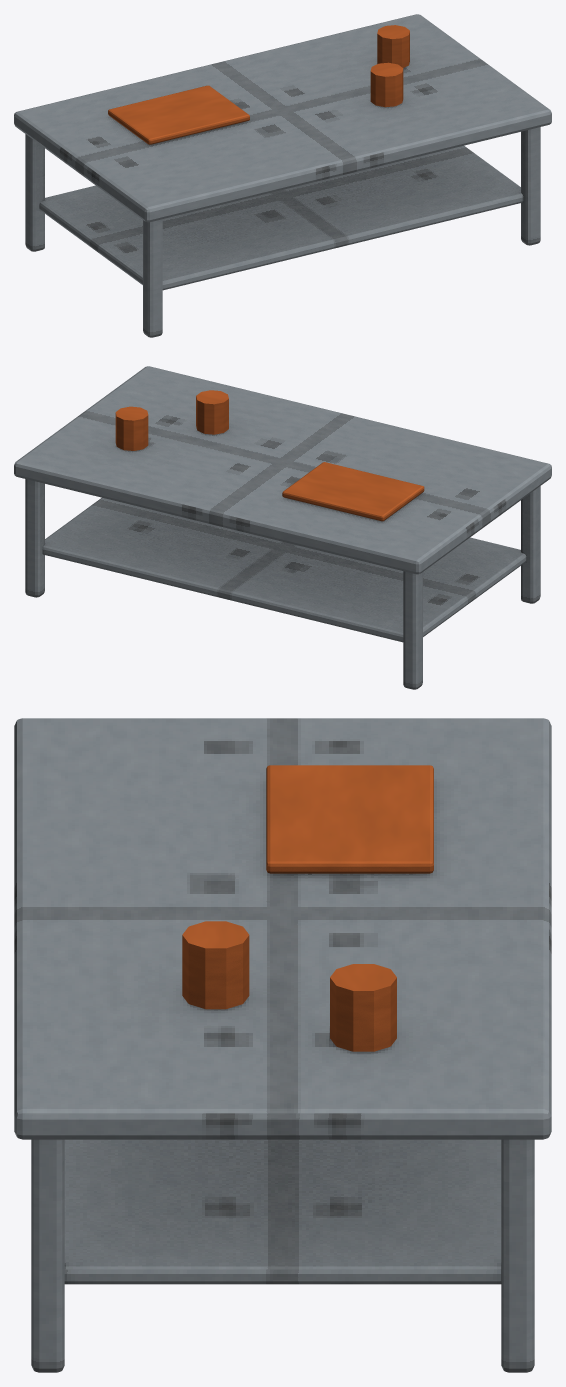
Rendered from base_coffee_table.glb.
3 views of the same model, one above another, from view 1: azimuth 30°, elevation 25°; view 2: azimuth 150°, elevation 25°; view 3: azimuth 270°, elevation 25° (orthographic). The views are drawn at different scales.
Visible parts, largest first — view 1: base_coffee_table; view 2: base_coffee_table; view 3: base_coffee_table.
Boxes of the visible parts, x1=… form: base_coffee_table: x1=14, y1=14, x2=551, y2=337; base_coffee_table: x1=14, y1=366, x2=551, y2=689; base_coffee_table: x1=14, y1=718, x2=551, y2=1372.
Size of the model in its own units: 1.4 by 0.55 by 0.8.
Materials: 2 (2 with a texture image).
